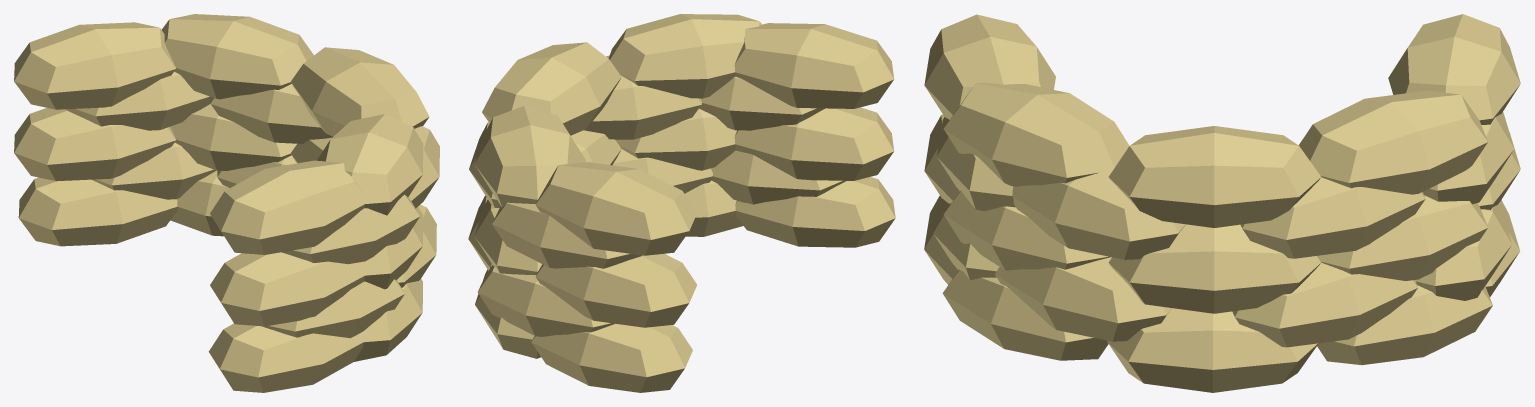
Rendered from Sandbagwall4.fbx.
3 views of the same model, side by side, from view 1: azimuth 30°, elevation 25°; view 2: azimuth 150°, elevation 25°; view 3: azimuth 270°, elevation 25° (orthographic). The views are drawn at different scales.
Parts seen in each view (by area): view 1: Sandbag; view 2: Sandbag; view 3: Sandbag.
Boxes of the visible parts, box(x1,y1,x2,y2) form: Sandbag: box(14, 14, 439, 392); Sandbag: box(468, 14, 895, 392); Sandbag: box(924, 14, 1520, 392).
Size of the model in its own units: 246 by 171 by 366.
